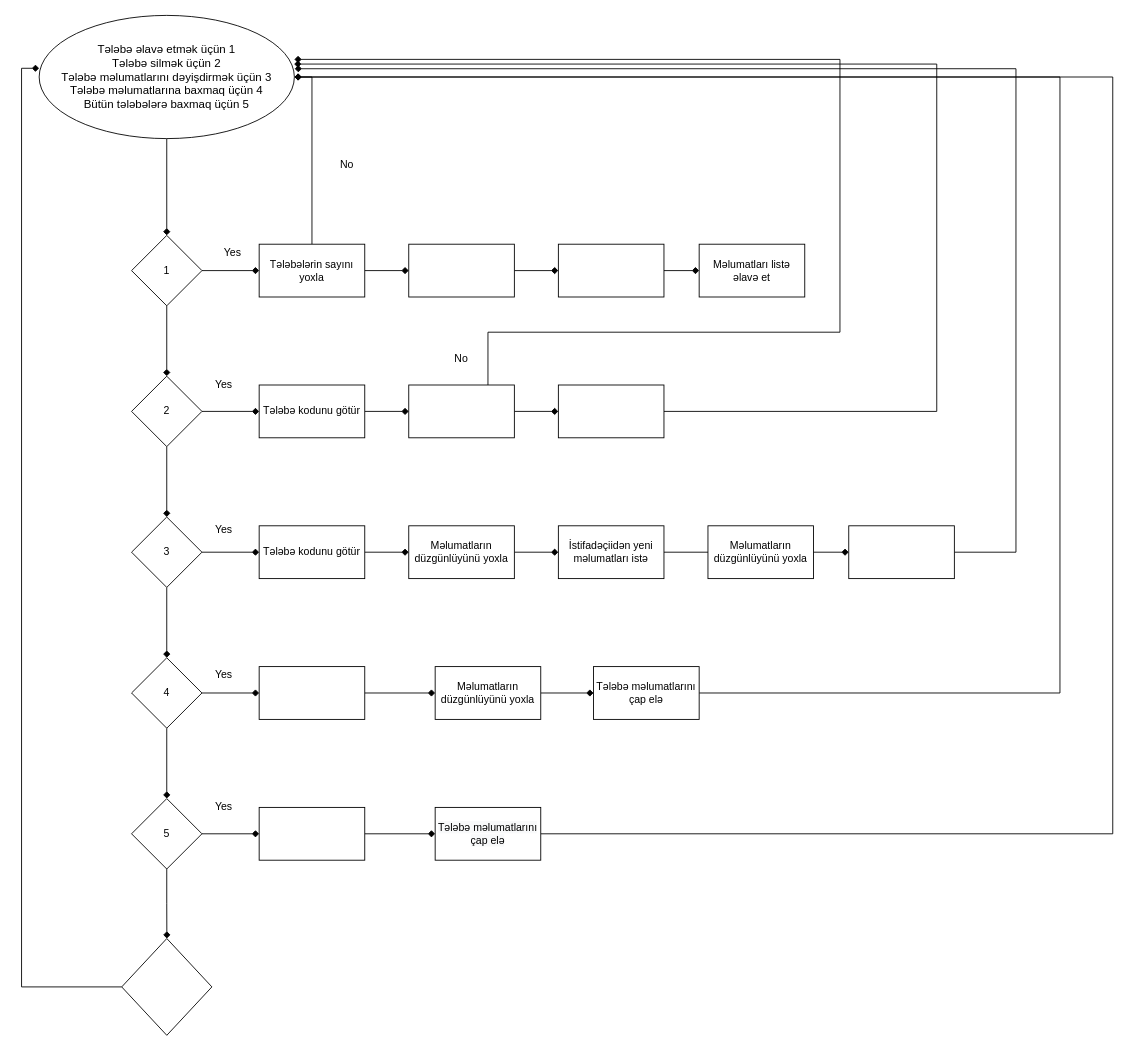
This 1135x1051 diagram has some shape labels left out. Here are the shapes that lost their labels. From the top down, the centre of each, then its label:
point 461,270: İstifadəçidən məlumatları götür
point 610,270: Melumatların düzgünlüyünü yoxla
point 461,411: Məlumatların doğruluğunu yoxla
point 610,411: Tələbəni sil
point 901,552: Daxil edilən məlumatları yadda saxla
point 311,692: Tələbə adını götür
point 311,833: Tələbələrin olub olmadığını yoxla
point 166,986: Şərtlər ödənmədikdə
